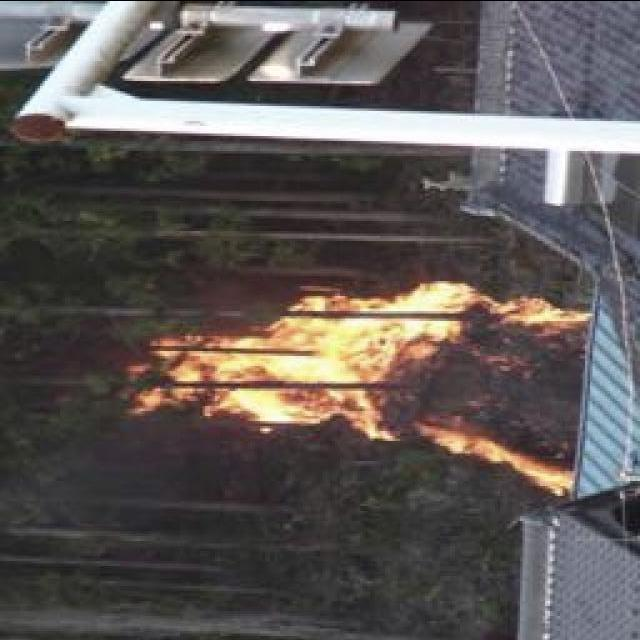Fire: (125, 286, 589, 488)
